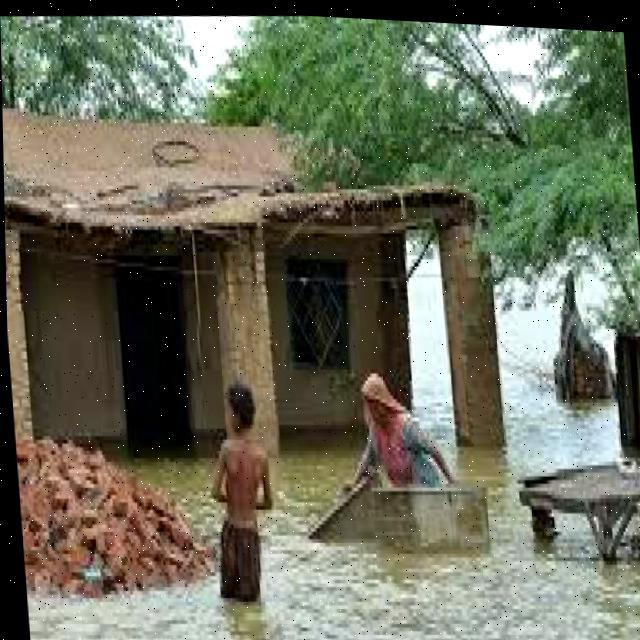civilian: (200, 372, 288, 609), (352, 363, 452, 493)
